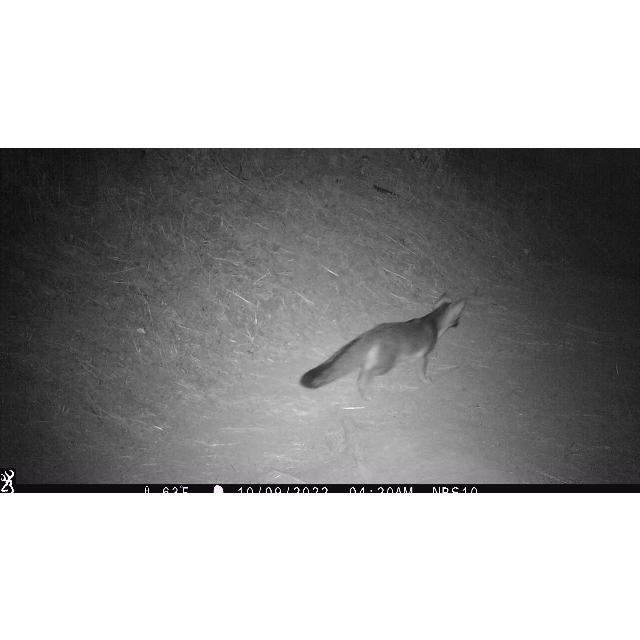animals: (299, 289, 469, 401)
